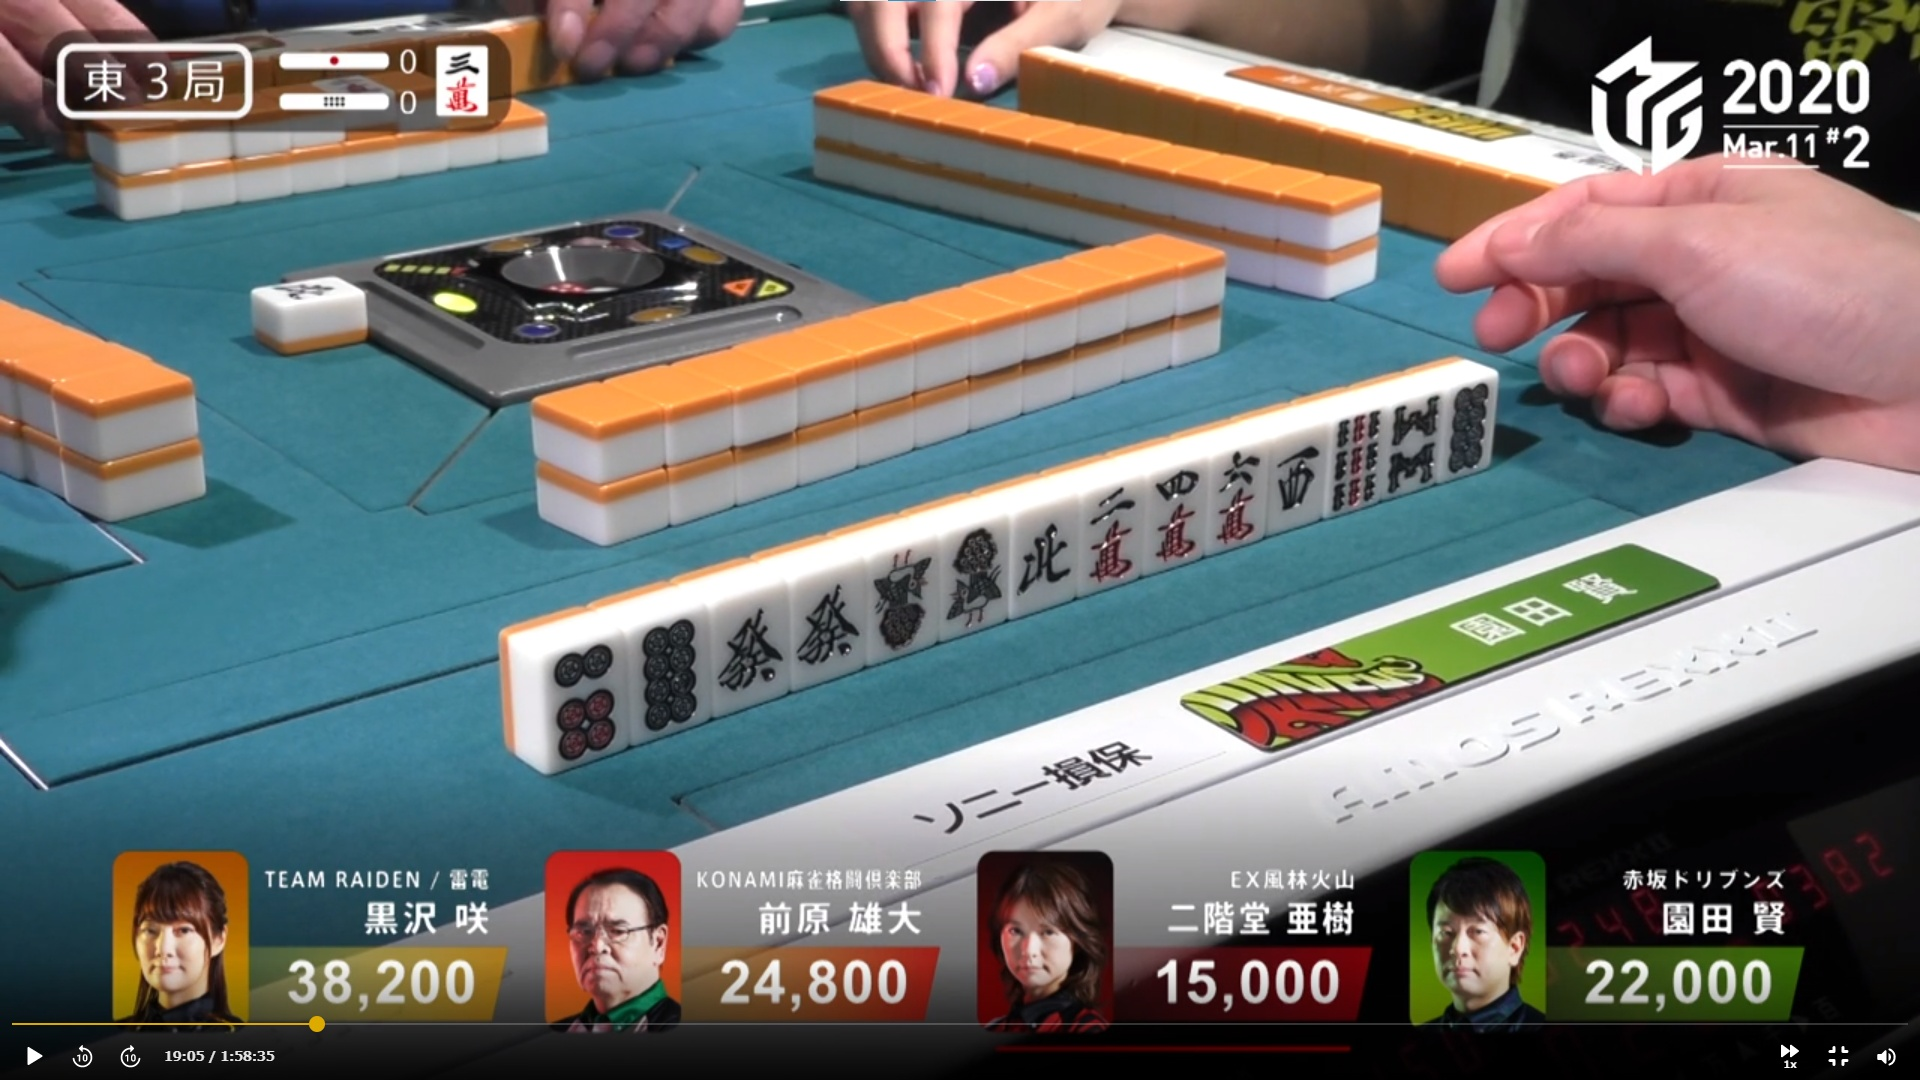1s: (932, 506, 1004, 637), (872, 535, 928, 651)
2m: (1079, 463, 1135, 593)
4m: (1139, 442, 1200, 567)
6m: (1201, 419, 1266, 553)
6p: (516, 625, 618, 767), (1440, 359, 1491, 480)
8p: (622, 597, 703, 738)
8s: (1385, 373, 1437, 495)
9s: (1325, 390, 1383, 520)
hand_ton_3: (51, 38, 266, 120)
hatsu: (707, 574, 783, 712), (790, 562, 866, 682)
pei: (1007, 484, 1071, 607)
round_0: (270, 84, 419, 120)
sha: (1269, 404, 1320, 529)
team_drivens: (1174, 620, 1458, 756)
